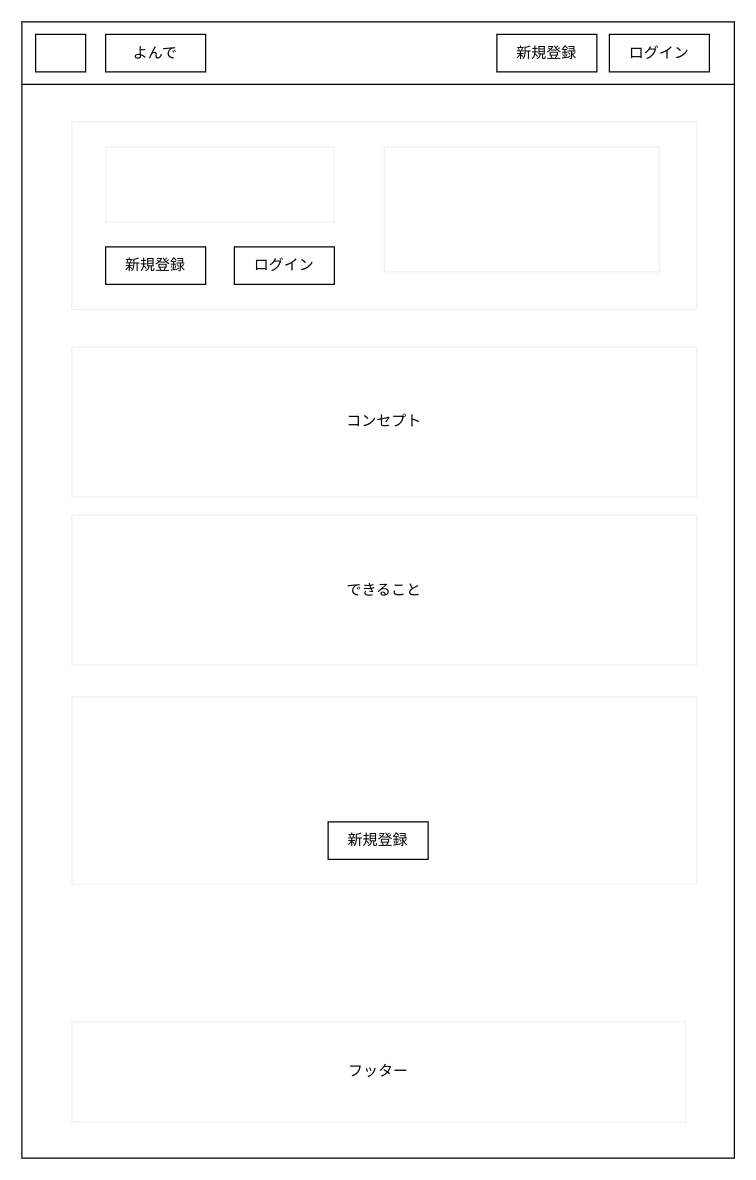
Some shapes in this 756 by 1180 pixel diagram are drawn without their labels. The shapes that lost their labels are listed below. From the top down, each one's box as (x1, y1, x2, y2) in pixels, then its label:
(34, 33, 86, 72): ロゴ
(104, 146, 334, 222): こどもの「よんで」が 楽しみになる
(383, 146, 659, 272): イメージ
(71, 696, 697, 884): サービス名に込めた思い
